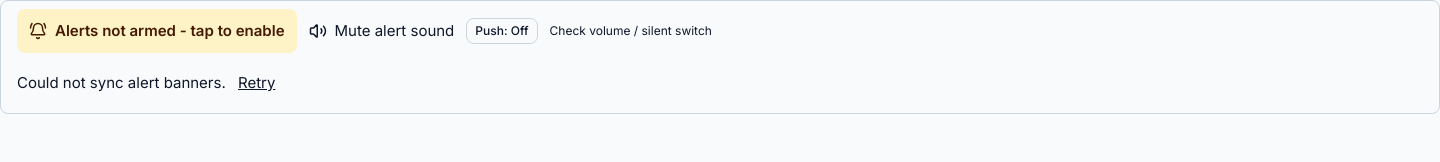
ArmAlertsButton, logout cleanup, test notification menu, and InstallHint › shows blocked state when permission is denied during arm tap
Click the button "Alerts not armed - tap to enable" at (157, 31), box [17,9,296,53]
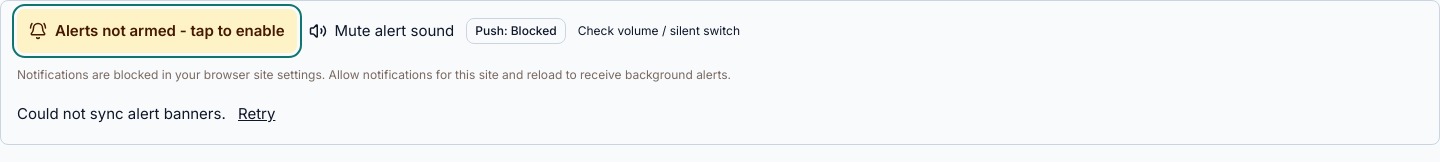
Check: the text "Push: Blocked" is shown, box [466,18,566,44]
Check: the message shows "blocked in your browser site settings", box [17,67,731,82]
